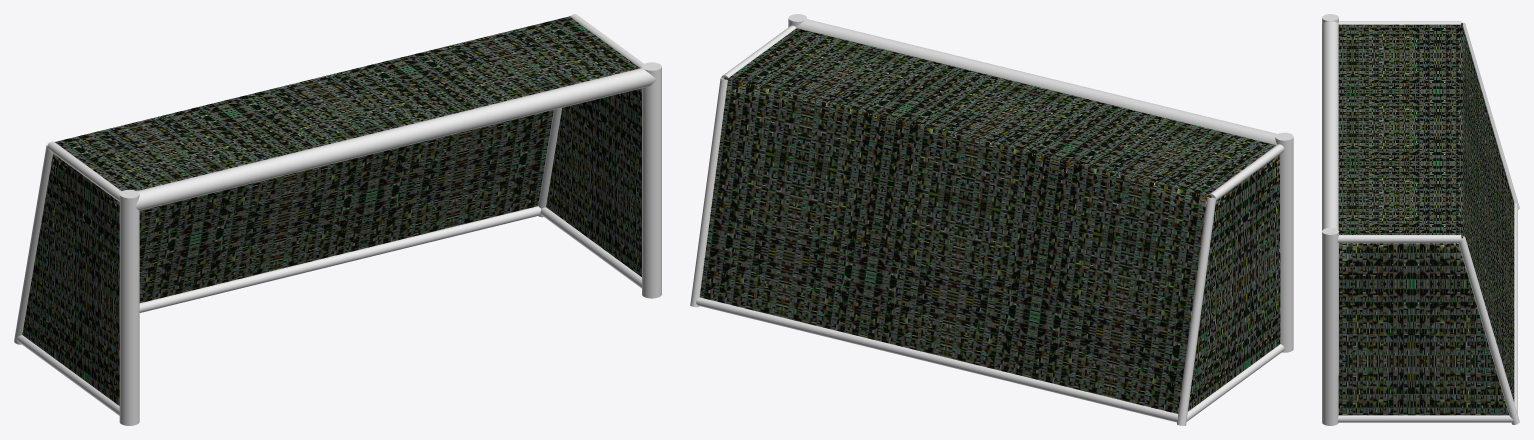
File: SoccerGoal.fbx
The picture shows the model from 3 angles, left to right: view 1: azimuth 30°, elevation 25°; view 2: azimuth 150°, elevation 25°; view 3: azimuth 270°, elevation 25°; orthographic projection. The views are drawn at different scales.
Visible parts, largest first — view 1: pPlane2, pCylinder3, pCylinder2, pCylinder1, pCylinder10, pCylinder7, pCylinder9, pCylinder8, pCylinder4, pCylinder6; view 2: pPlane2, pCylinder3, pCylinder10, pCylinder2, pCylinder7, pCylinder6, pCylinder8, pCylinder4; view 3: pPlane2, pCylinder3, pCylinder1, pCylinder6, pCylinder9, pCylinder5, pCylinder10, pCylinder7, pCylinder4.
Boxes of the visible parts, left/top/right/bottom form: pPlane2: left=22, top=16, right=641, bottom=405; pCylinder3: left=134, top=68, right=656, bottom=210; pCylinder2: left=119, top=189, right=139, bottom=425; pCylinder1: left=642, top=62, right=661, bottom=298; pCylinder10: left=139, top=206, right=540, bottom=312; pCylinder7: left=14, top=142, right=52, bottom=344; pCylinder9: left=540, top=207, right=641, bottom=288; pCylinder8: left=16, top=335, right=119, bottom=415; pCylinder4: left=47, top=141, right=121, bottom=201; pCylinder6: left=538, top=15, right=571, bottom=217; pPlane2: left=699, top=28, right=1280, bottom=413; pCylinder3: left=796, top=19, right=1276, bottom=145; pCylinder10: left=696, top=297, right=1178, bottom=422; pCylinder2: left=1275, top=132, right=1293, bottom=352; pCylinder7: left=1177, top=197, right=1215, bottom=425; pCylinder6: left=690, top=78, right=727, bottom=307; pCylinder8: left=1186, top=344, right=1284, bottom=421; pCylinder4: left=1209, top=144, right=1284, bottom=200; pPlane2: left=1338, top=23, right=1514, bottom=415; pCylinder3: left=1322, top=21, right=1338, bottom=230; pCylinder1: left=1322, top=228, right=1338, bottom=425; pCylinder6: left=1458, top=236, right=1519, bottom=424; pCylinder9: left=1337, top=415, right=1513, bottom=422; pCylinder5: left=1337, top=235, right=1461, bottom=243; pCylinder10: left=1514, top=202, right=1517, bottom=414; pCylinder7: left=1461, top=22, right=1519, bottom=209; pCylinder4: left=1338, top=21, right=1461, bottom=24.
Size of the model in its own units: 62 by 25.2 by 23.47.
